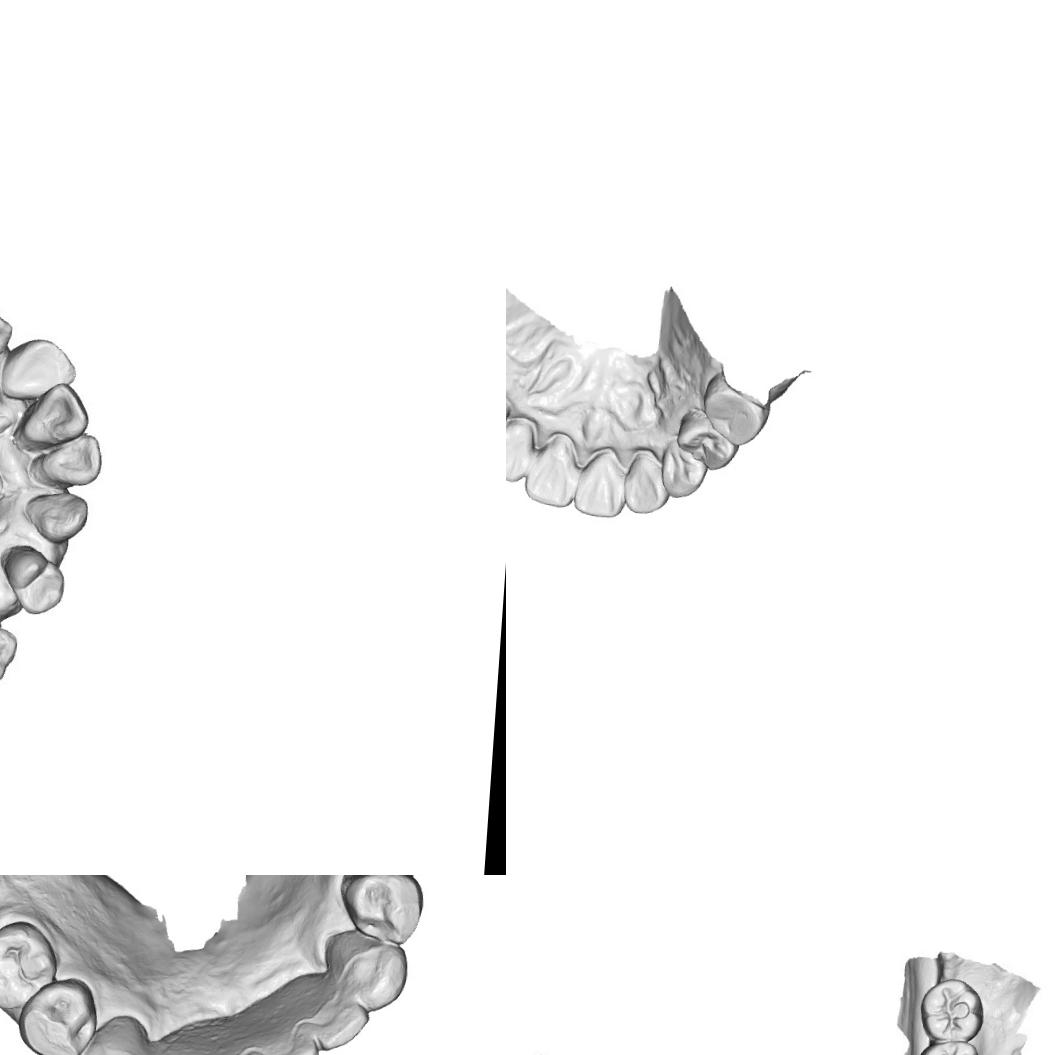canine: (316, 928, 412, 1016), (19, 488, 91, 548), (74, 1011, 157, 1055), (656, 441, 708, 501)
incisor: (0, 332, 79, 405), (17, 378, 93, 450), (522, 429, 580, 510), (35, 426, 107, 490), (306, 989, 375, 1055), (570, 443, 628, 519), (622, 450, 671, 516), (253, 1022, 323, 1055), (506, 418, 536, 485), (144, 1033, 206, 1055), (0, 305, 15, 376), (196, 1042, 270, 1055)
molar: (698, 373, 771, 449), (917, 975, 987, 1043), (0, 608, 22, 694), (910, 1037, 986, 1055)
premolar: (14, 974, 99, 1055), (336, 875, 425, 946), (0, 534, 70, 619), (0, 916, 59, 1014), (673, 416, 742, 472)
